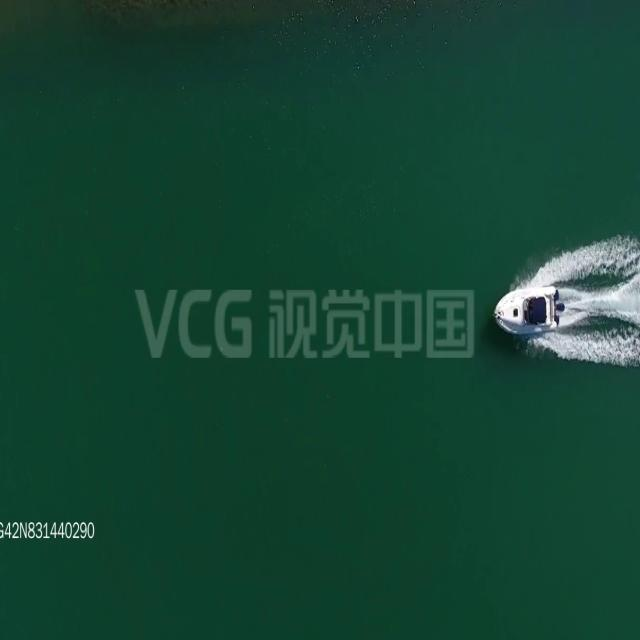houseboat: (490, 278, 563, 333)
